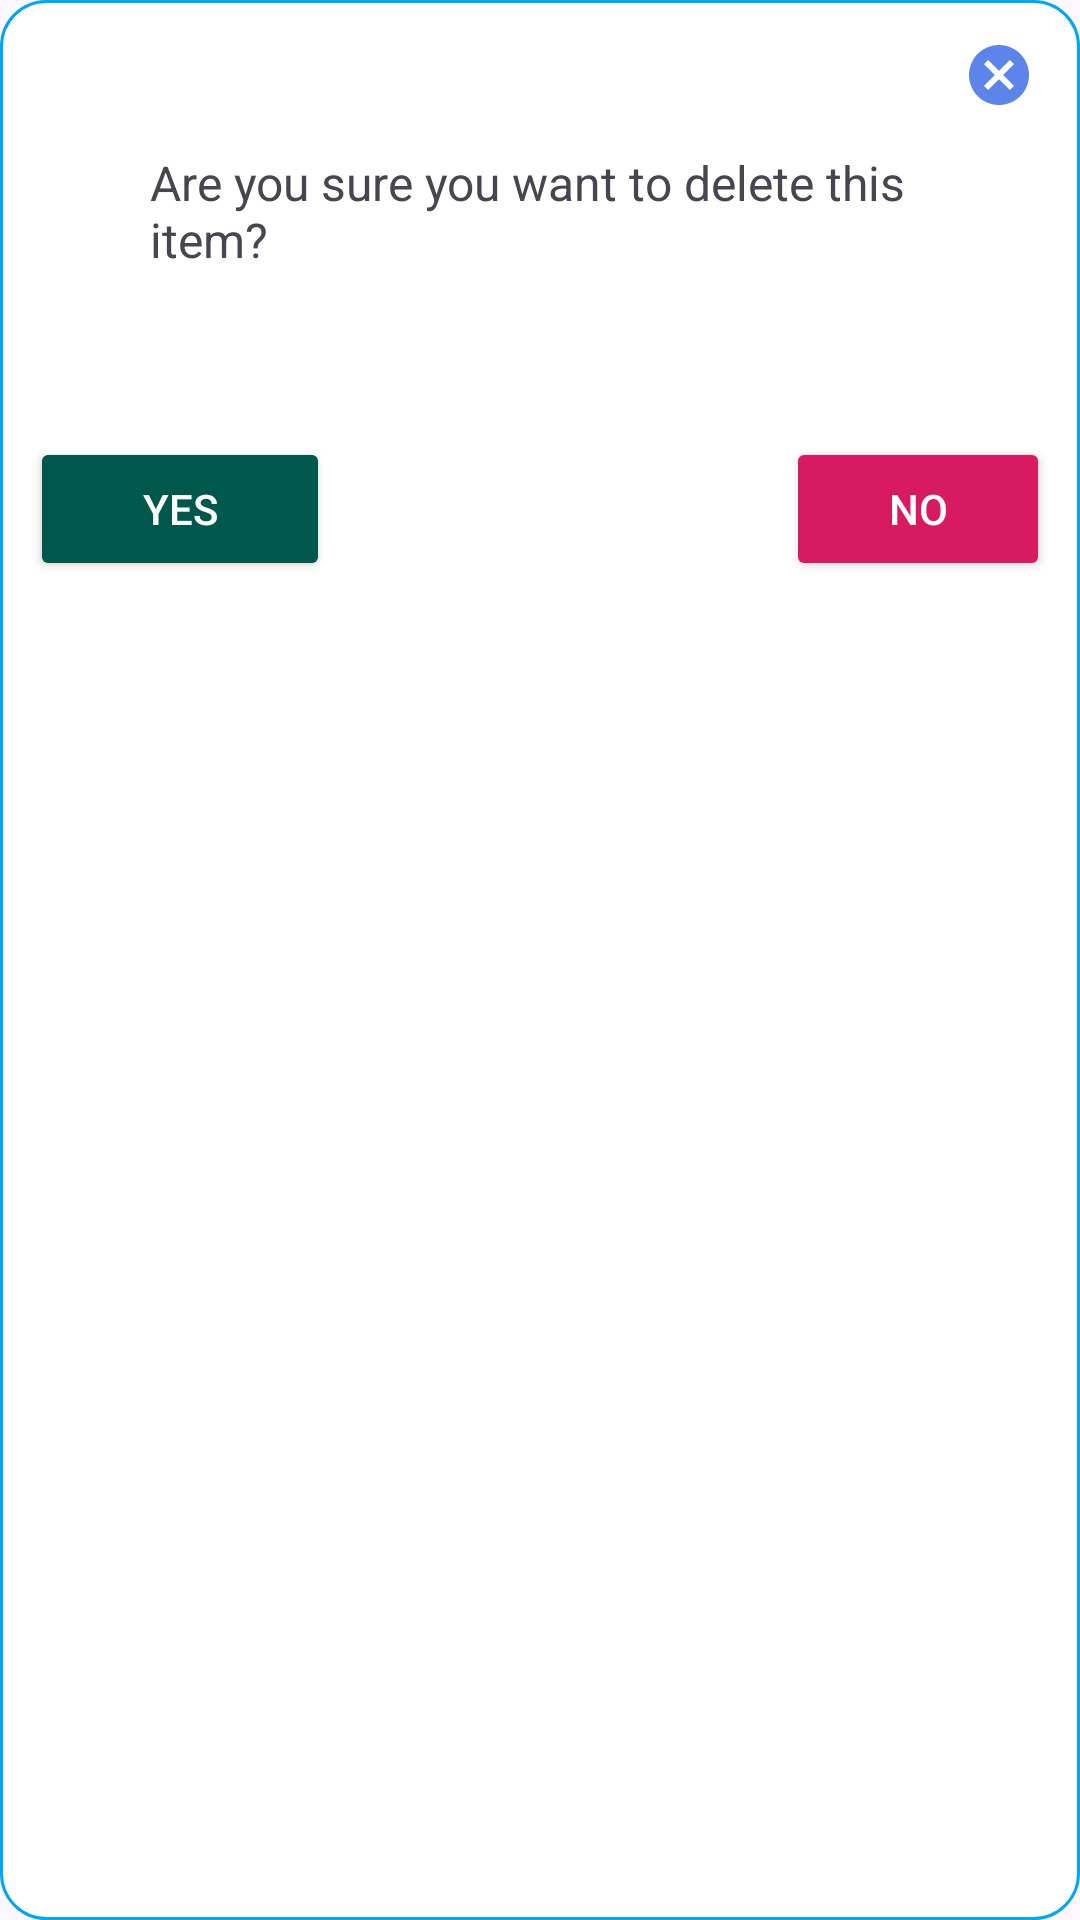

Named icons in this screenshot (1080px×1920px) and their centers, (x=x, y=y):
cancel: (x=999, y=75)
